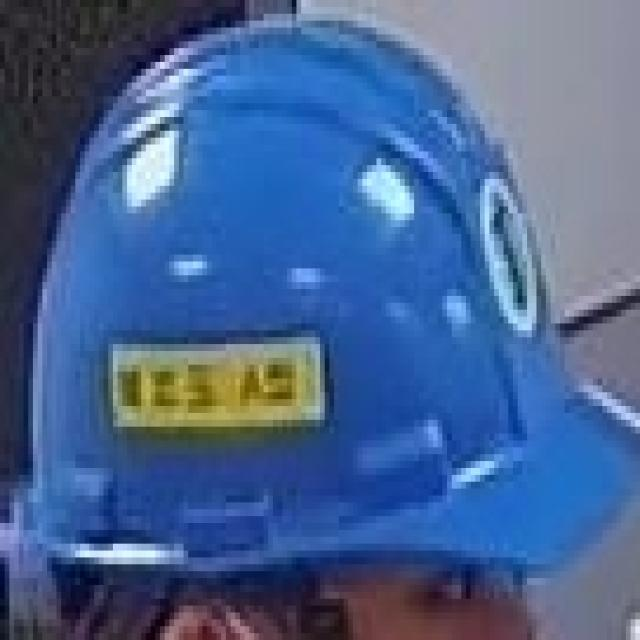helmet_blue: (2, 4, 638, 636)
